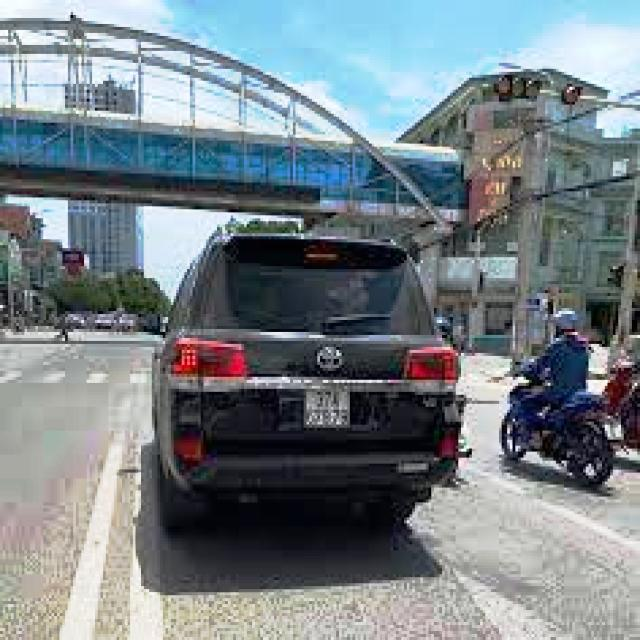license_plate: (306, 389, 352, 428)
